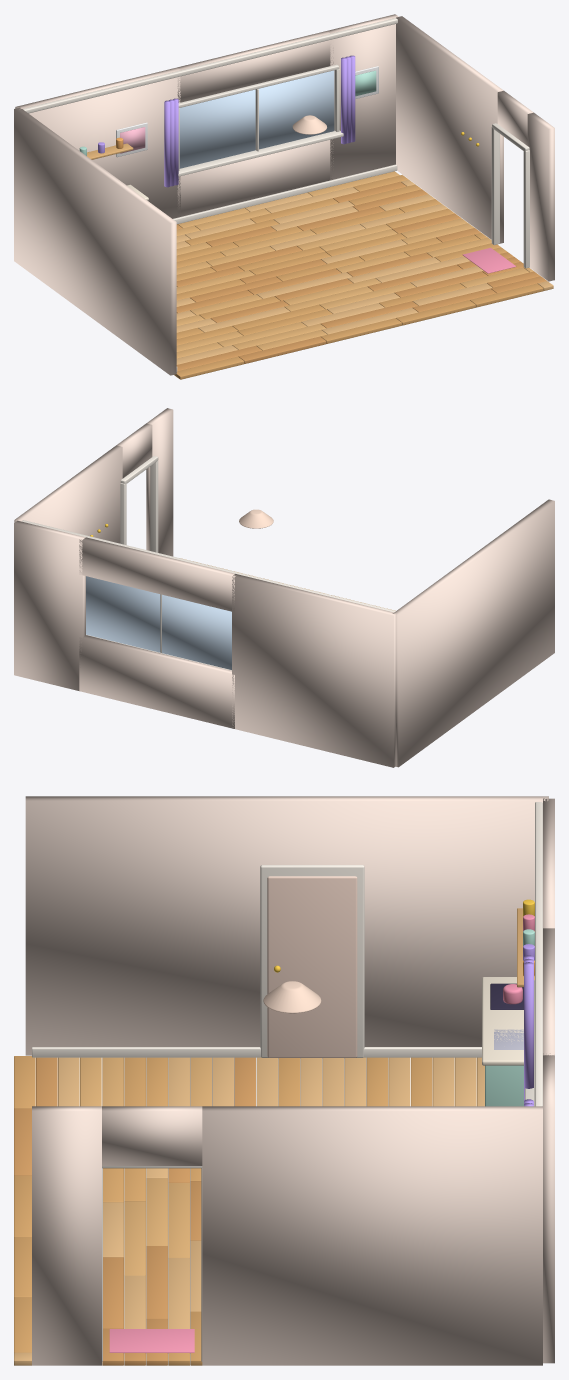
The model's file is home.glb.
3 views of the same model, one above another, from view 1: azimuth 30°, elevation 25°; view 2: azimuth 150°, elevation 25°; view 3: azimuth 270°, elevation 25° (orthographic). The views are drawn at different scales.
Parts seen in each view (by area): view 1: Home_static; view 2: Home_static; view 3: Home_static.
Part boxes in pixels (bbox=[...]): Home_static: bbox=[14, 14, 554, 379]; Home_static: bbox=[14, 408, 554, 767]; Home_static: bbox=[14, 796, 554, 1365].
Bounding box in the file's own units: 7.44 × 2.86 × 5.4.
